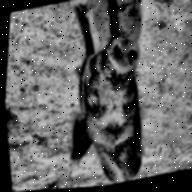boar: (38, 0, 189, 190)
